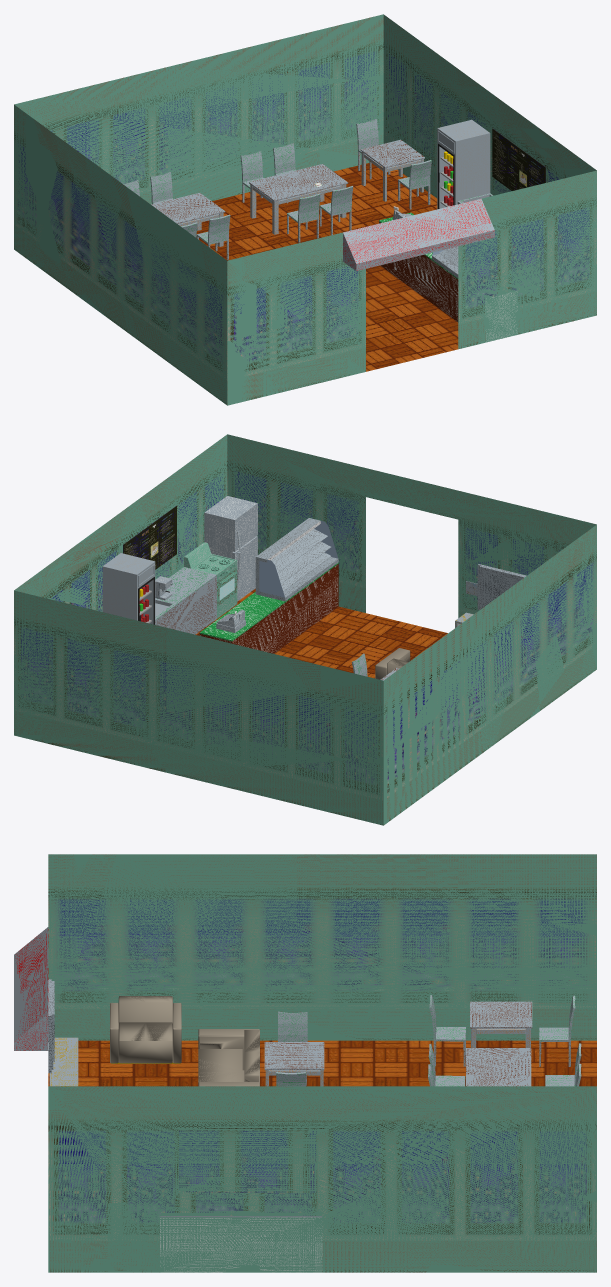
Rendered from crate.obj.
3 views of the same model, one above another, from view 1: azimuth 30°, elevation 25°; view 2: azimuth 150°, elevation 25°; view 3: azimuth 270°, elevation 25° (orthographic). The views are drawn at different scales.
Visible parts, largest first — view 1: SketchUp.007_ID1867, SketchUp.016_ID1991, SketchUp.010_ID1901, instance_18.001_ID1041, SketchUp.003_ID1843, SketchUp.012_ID1922, instance_13.028_ID606, SketchUp.002_ID1837, instance_14.028_ID606, instance_17.017_ID933, instance_17.008_ID879, instance_14.044_ID702 (+6 smaller); view 2: SketchUp.007_ID1867, SketchUp.016_ID1991, SketchUp.003_ID1843, instance_6_ID46, instance_18.001_ID1041, SketchUp.009_ID1895, SketchUp.012_ID1922, instance_12.001_ID332, SketchUp.001_ID1829, SketchUp.008_ID1889, instance_12.003_ID348, instance_12.013_ID408 (+5 smaller); view 3: SketchUp.007_ID1867, SketchUp.016_ID1991, SketchUp_ID1823, SketchUp.011_ID1909, instance_5.001_ID37, SketchUp.010_ID1901, instance_7.002_ID106, instance_0.001_ID37, instance_14.028_ID606, instance_16.017_ID933, instance_15.017_ID933, instance_19.001_ID1633 (+3 smaller).
Part boxes in pixels (<box>): SketchUp.007_ID1867: <box>14,14,596,405</box>; SketchUp.016_ID1991: <box>196,163,458,371</box>; SketchUp.010_ID1901: <box>343,198,494,271</box>; instance_18.001_ID1041: <box>437,119,490,209</box>; SketchUp.003_ID1843: <box>379,222,458,322</box>; SketchUp.012_ID1922: <box>492,129,545,190</box>; instance_13.028_ID606: <box>249,164,348,201</box>; SketchUp.002_ID1837: <box>485,290,517,342</box>; instance_14.028_ID606: <box>151,192,225,223</box>; instance_17.017_ID933: <box>360,139,424,168</box>; instance_17.008_ID879: <box>398,160,431,189</box>; instance_14.044_ID702: <box>196,214,230,244</box>; SketchUp.007_ID1867: <box>14,434,596,825</box>; SketchUp.016_ID1991: <box>196,588,447,678</box>; SketchUp.003_ID1843: <box>199,564,338,653</box>; instance_6_ID46: <box>204,496,257,601</box>; instance_18.001_ID1041: <box>102,553,155,624</box>; SketchUp.009_ID1895: <box>155,576,216,634</box>; SketchUp.012_ID1922: <box>123,506,176,569</box>; instance_12.001_ID332: <box>255,518,338,601</box>; SketchUp.001_ID1829: <box>199,562,338,641</box>; SketchUp.008_ID1889: <box>155,567,216,620</box>; instance_12.003_ID348: <box>271,529,327,572</box>; instance_12.013_ID408: <box>259,559,284,597</box>; SketchUp.007_ID1867: <box>48,854,596,1272</box>; SketchUp.016_ID1991: <box>48,1040,596,1086</box>; SketchUp_ID1823: <box>159,1216,322,1272</box>; SketchUp.011_ID1909: <box>179,1130,316,1192</box>; instance_5.001_ID37: <box>110,996,181,1063</box>; SketchUp.010_ID1901: <box>14,927,48,1050</box>; instance_7.002_ID106: <box>107,1203,159,1272</box>; instance_0.001_ID37: <box>198,1029,259,1086</box>; instance_14.028_ID606: <box>466,1048,531,1086</box>; instance_16.017_ID933: <box>264,1042,324,1070</box>; instance_15.017_ID933: <box>470,1001,532,1028</box>; instance_19.001_ID1633: <box>49,1037,78,1086</box>.
Size of the model in its own units: 8 by 3.01 by 8.5.
